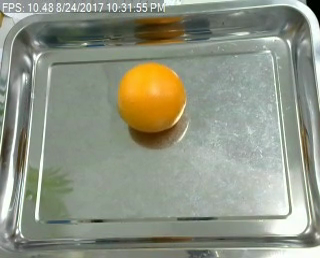Orange: (116, 62, 187, 133)
